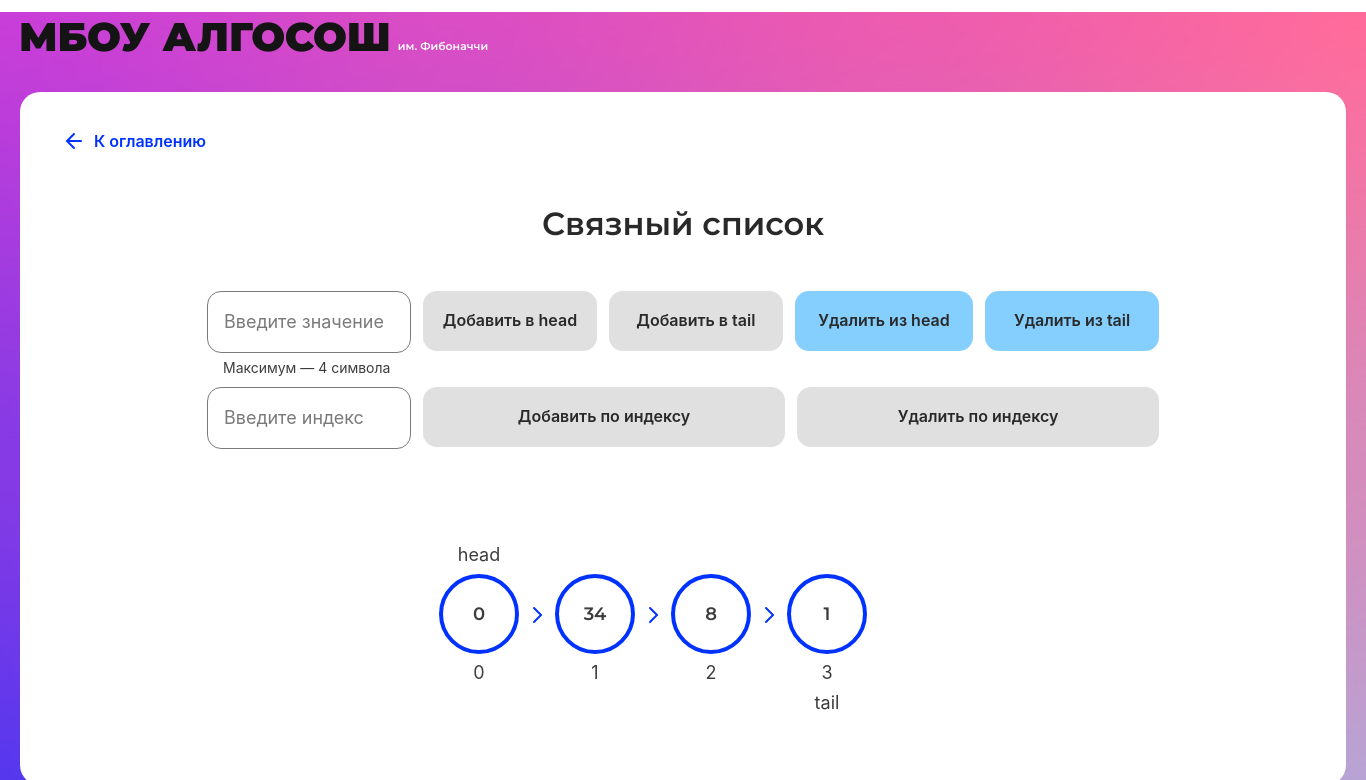
Scenario: list works correctly › should if the input is empty, then the "delete from head" button is disabled
The width and height of the screenshot is (1366, 780).
Step 1. Click the button "Удалить из head" → (884, 321), box [795,291,973,351]
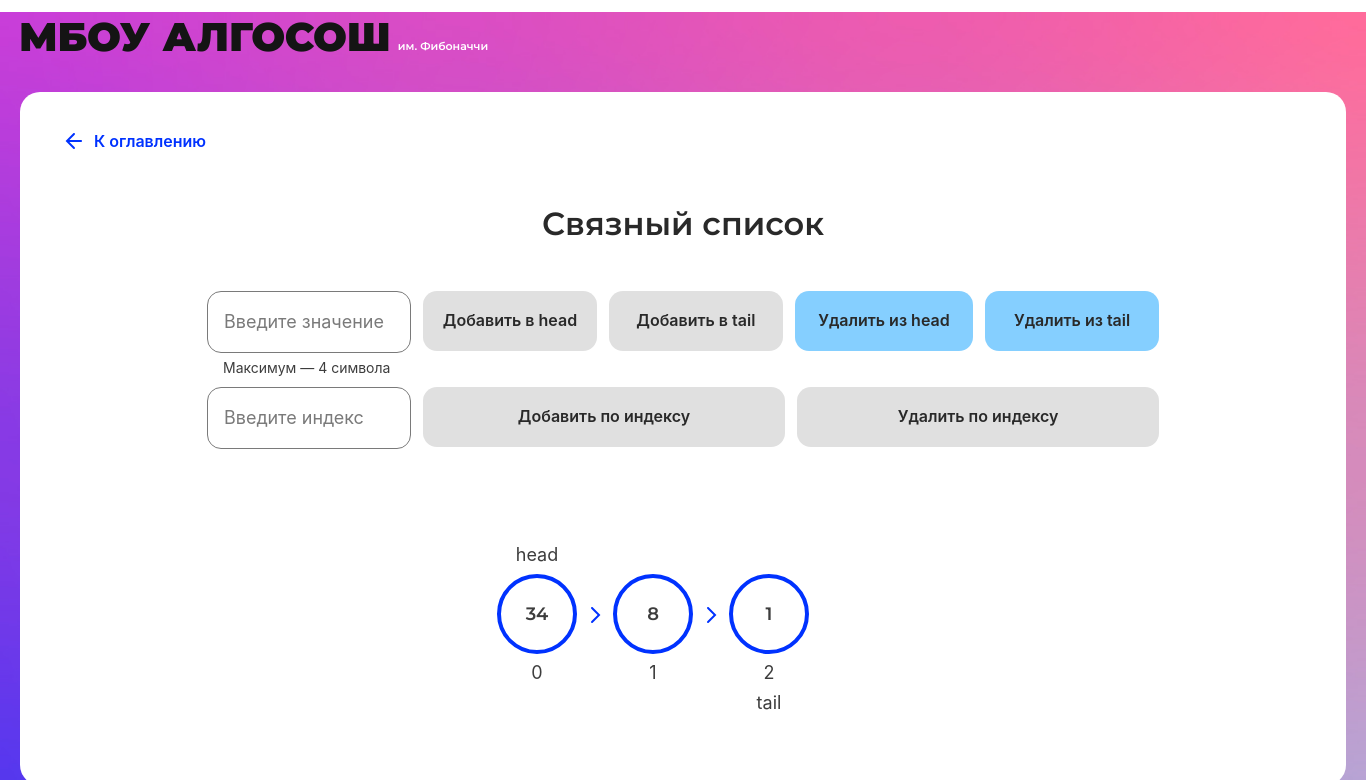
Step 2. Click the button "Удалить из head" → (884, 321), box [795,291,973,351]
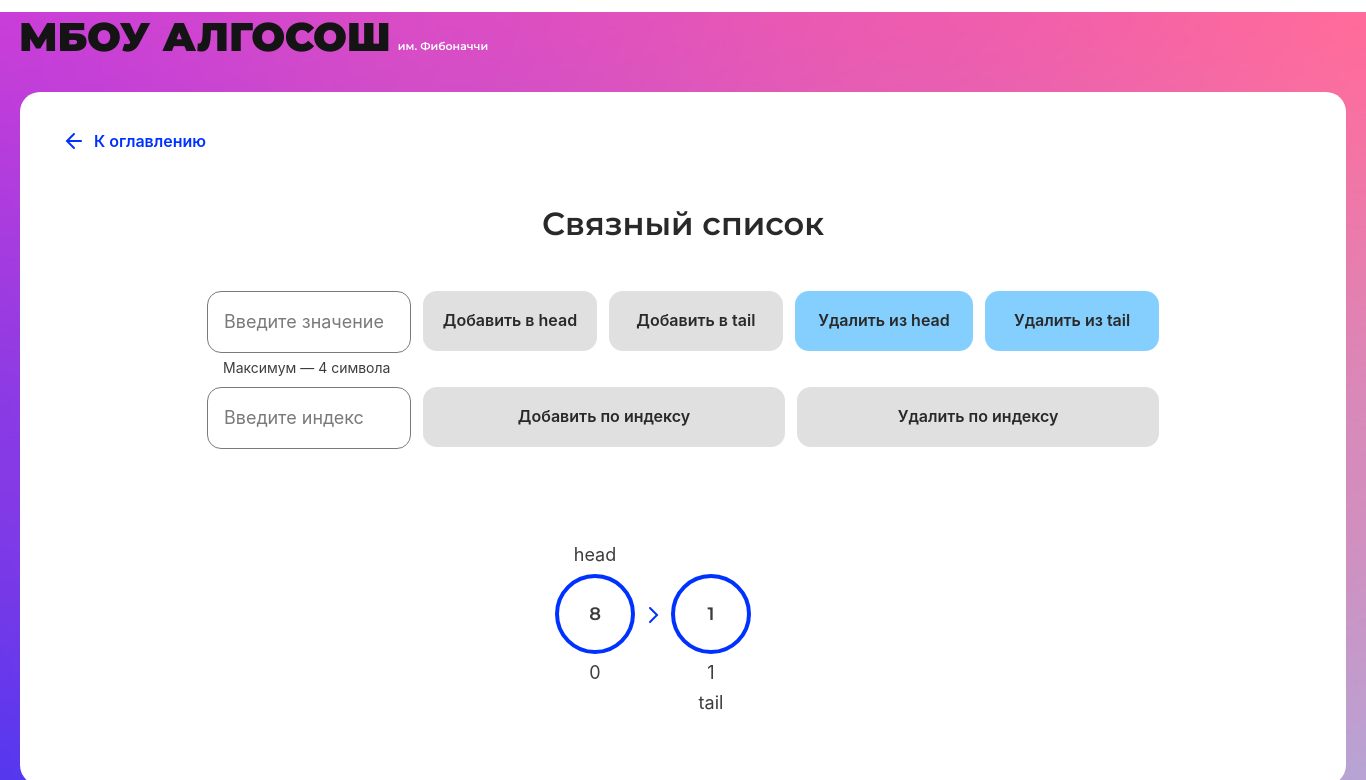
Step 3. Click the button "Удалить из head" → (884, 321), box [795,291,973,351]
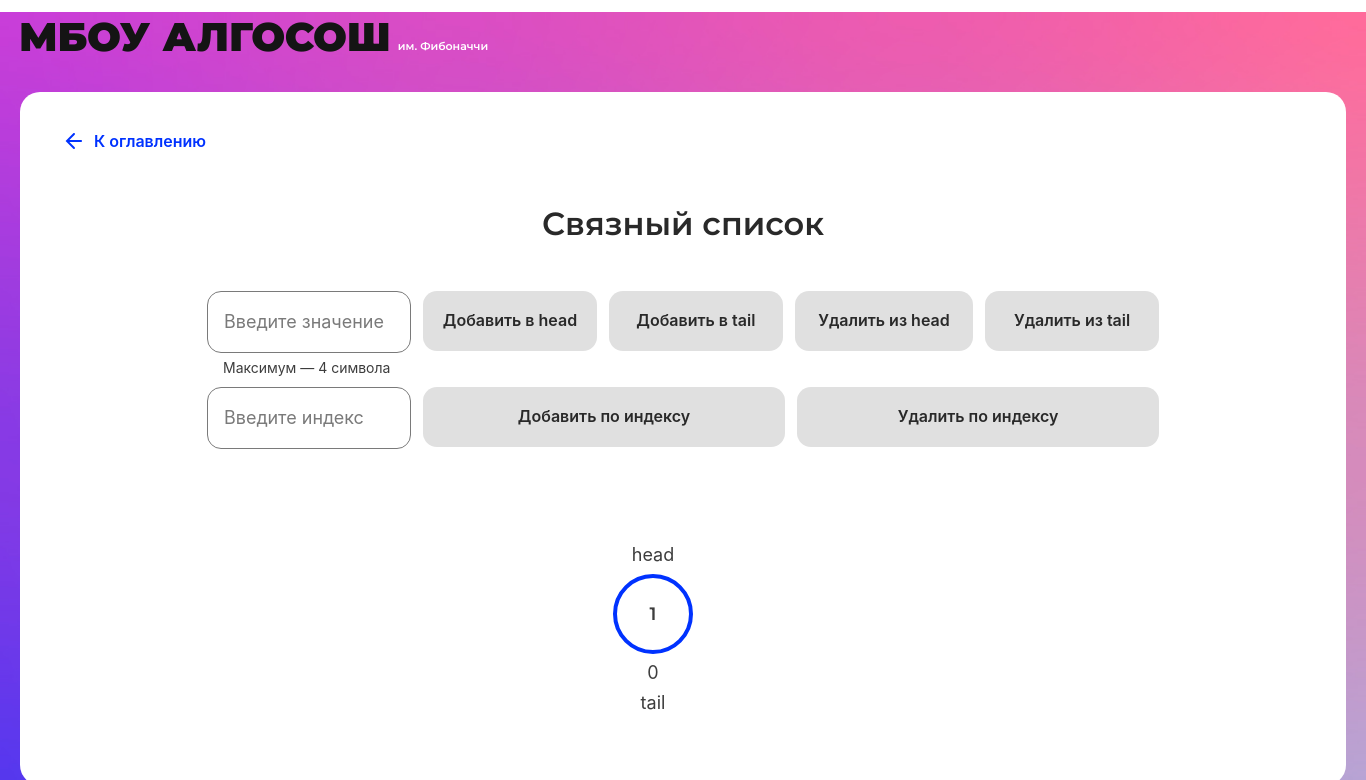
Check: the number of elements with test id "circle-text" is 1, box [650,603,657,625]
Check: the button "Удалить из head" is disabled, box [795,291,973,351]
